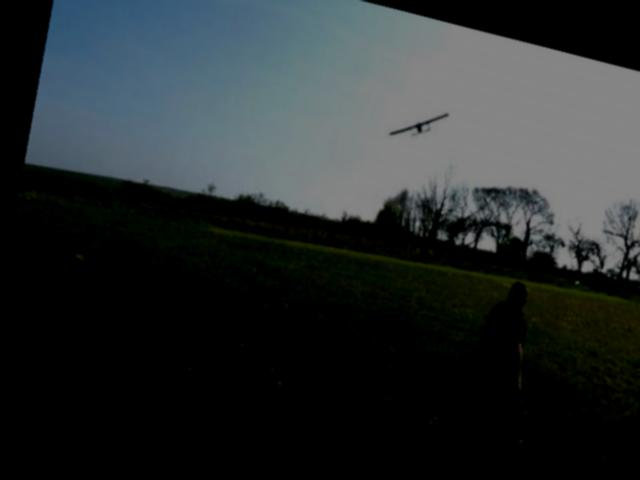iha: (386, 101, 448, 148)
